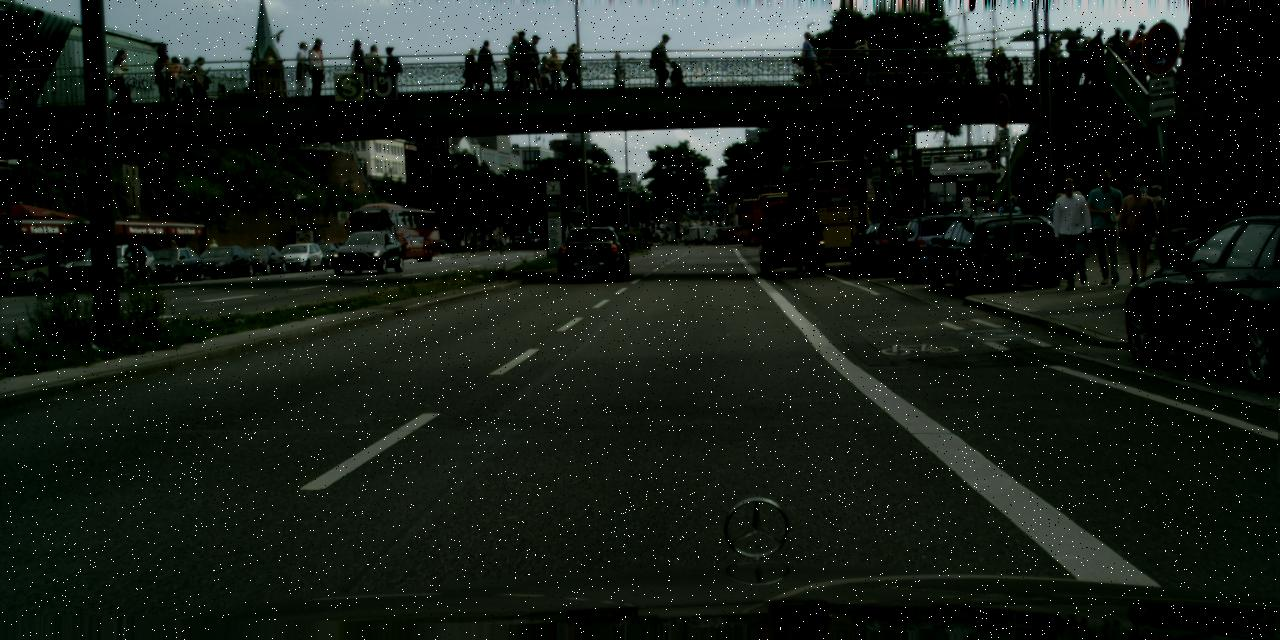ped: (1084, 170, 1130, 283), (1051, 176, 1095, 286), (1117, 176, 1159, 280), (1140, 184, 1172, 261), (1062, 190, 1092, 268), (1044, 192, 1072, 260), (304, 36, 329, 98), (1063, 25, 1088, 86), (151, 44, 176, 104), (1128, 176, 1153, 236), (510, 29, 534, 90), (110, 46, 134, 106), (1085, 27, 1109, 86), (289, 40, 313, 98), (1000, 194, 1024, 252), (797, 30, 820, 87), (502, 33, 525, 90), (523, 32, 545, 90), (651, 33, 674, 88), (473, 38, 496, 93), (349, 38, 371, 93), (1126, 29, 1148, 83), (792, 222, 814, 276), (1042, 32, 1064, 84), (1076, 34, 1097, 86), (306, 44, 326, 98), (363, 44, 384, 95), (1128, 41, 1148, 94), (1107, 27, 1127, 78), (190, 54, 210, 104), (176, 55, 196, 104), (562, 41, 582, 90), (381, 45, 401, 94), (1129, 23, 1149, 70), (846, 40, 866, 86), (165, 55, 184, 103), (853, 37, 872, 85), (1116, 28, 1135, 76), (462, 46, 481, 92), (1047, 39, 1065, 85), (188, 59, 205, 104), (546, 46, 563, 90), (44, 232, 61, 274), (638, 221, 671, 241), (805, 46, 821, 87), (819, 46, 835, 86), (1177, 28, 1192, 68), (127, 234, 142, 272), (992, 45, 1007, 81), (868, 216, 882, 250), (958, 192, 972, 225), (886, 210, 898, 241), (898, 212, 909, 242), (208, 238, 218, 264), (178, 242, 188, 268), (166, 234, 176, 260), (152, 238, 161, 262), (988, 198, 997, 221), (316, 236, 323, 256), (458, 237, 466, 254), (468, 236, 476, 253), (676, 222, 682, 238), (439, 236, 445, 252), (498, 234, 503, 250), (682, 220, 687, 232), (488, 236, 493, 248), (720, 219, 724, 230), (712, 220, 715, 229), (706, 221, 709, 230), (716, 220, 719, 228), (698, 218, 701, 226), (695, 220, 698, 228), (670, 221, 675, 223)
